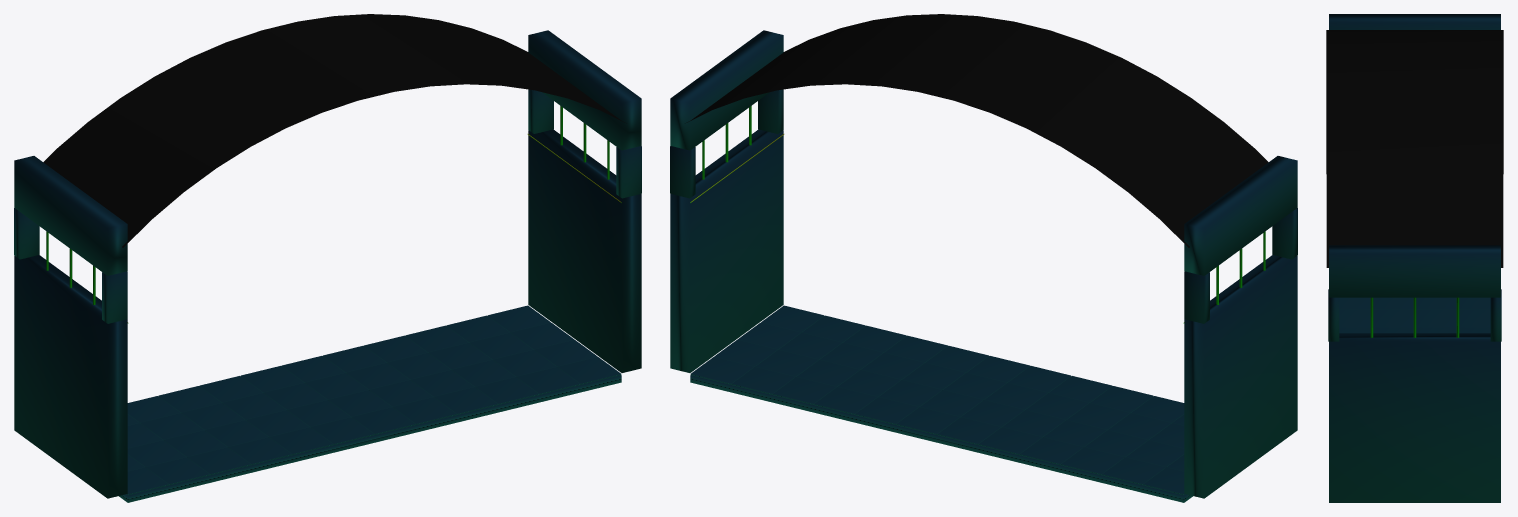
File: archive_hall_bay.glb
3 views of the same model, side by side, from view 1: azimuth 30°, elevation 25°; view 2: azimuth 150°, elevation 25°; view 3: azimuth 270°, elevation 25° (orthographic). The views are drawn at different scales.
Parts seen in each view (by area): view 1: archive_hall_bay; view 2: archive_hall_bay; view 3: archive_hall_bay.
Part boxes in pixels (left/top/right/bottom): archive_hall_bay: left=14, top=14, right=641, bottom=502; archive_hall_bay: left=670, top=14, right=1297, bottom=502; archive_hall_bay: left=1326, top=14, right=1503, bottom=502.
Size of what is drawn, in the model's own units: 21.08 by 13.11 by 6.57.
